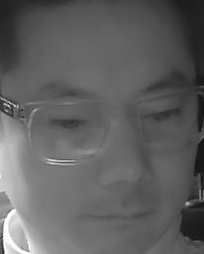eye: (48, 113, 88, 133), (145, 105, 183, 125)
glass: (24, 99, 110, 165), (130, 84, 203, 148)
mouth: (75, 203, 155, 236)
